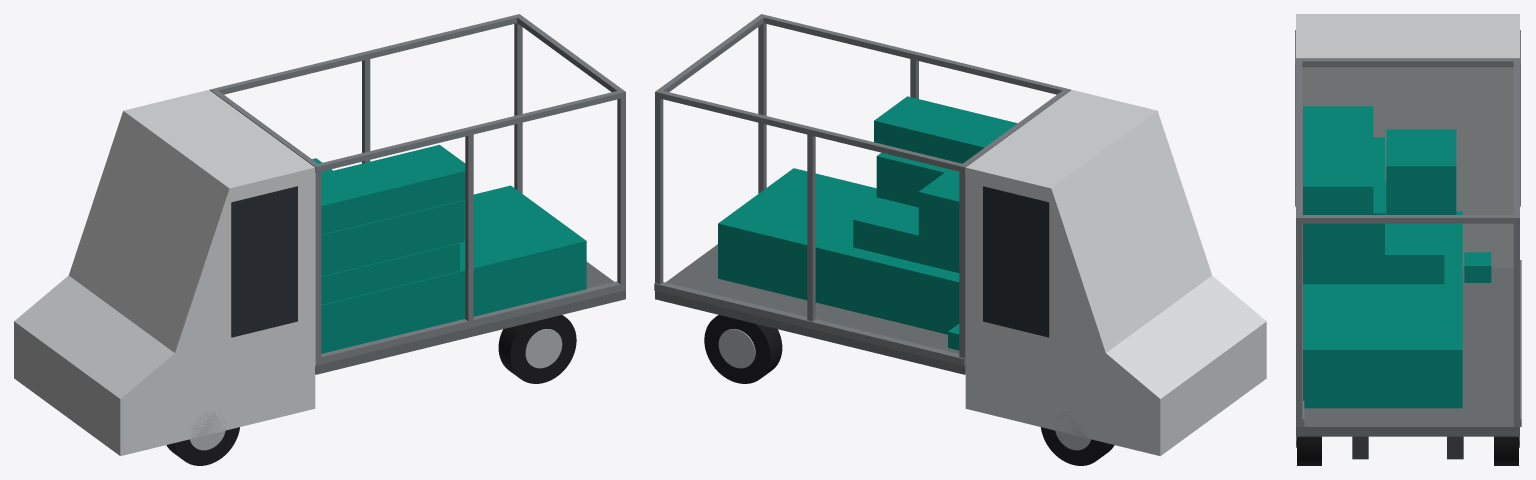
Rendered from van-BL03.glb.
The picture shows the model from 3 angles, left to right: view 1: azimuth 30°, elevation 25°; view 2: azimuth 150°, elevation 25°; view 3: azimuth 270°, elevation 25°; orthographic projection. The views are drawn at different scales.
Visible parts, largest first — view 1: cabine, part27, janela, part30, part29, part28, piso, part11, part23, part10, part12, part6 (+9 smaller); view 2: cabine, part27, janela, piso, part30, part28, part13, part25, part12, part31, part10, part29 (+9 smaller); view 3: part27, frente, piso, cabine, part30, part31, part28, part29, part14, part15, part8, part9 (+8 smaller).
Boxes of the visible parts, x1,y1,x2,y2 form: cabine: [14, 90, 315, 456]; part27: [321, 185, 586, 353]; janela: [231, 186, 297, 337]; part30: [321, 145, 465, 234]; part29: [321, 200, 464, 276]; part28: [321, 243, 459, 304]; piso: [315, 262, 625, 374]; part11: [316, 281, 625, 364]; part23: [498, 315, 576, 383]; part10: [313, 89, 625, 172]; part12: [210, 14, 522, 94]; part6: [465, 134, 473, 328]; cabine: [965, 90, 1266, 456]; part27: [718, 168, 959, 334]; janela: [983, 186, 1049, 337]; piso: [655, 244, 965, 374]; part30: [874, 96, 1017, 163]; part28: [853, 198, 959, 272]; part13: [654, 282, 964, 366]; part25: [704, 315, 782, 383]; part12: [655, 89, 967, 172]; part31: [918, 169, 959, 250]; part10: [758, 14, 1070, 94]; part29: [876, 152, 948, 207]; part27: [1303, 211, 1462, 408]; frente: [1302, 67, 1513, 267]; piso: [1296, 267, 1519, 436]; cabine: [1296, 14, 1519, 58]; part30: [1303, 106, 1373, 214]; part31: [1386, 129, 1456, 214]; part28: [1303, 181, 1444, 284]; part29: [1303, 137, 1384, 256]; part14: [1302, 58, 1517, 67]; part15: [1296, 215, 1519, 223]; part8: [1296, 223, 1302, 426]; part9: [1513, 223, 1519, 426].
Bounding box in the file's own units: 5.19 × 2.66 × 1.91.
